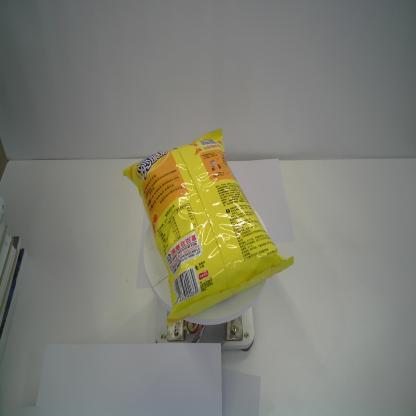Puffed Food: (122, 126, 295, 326)
